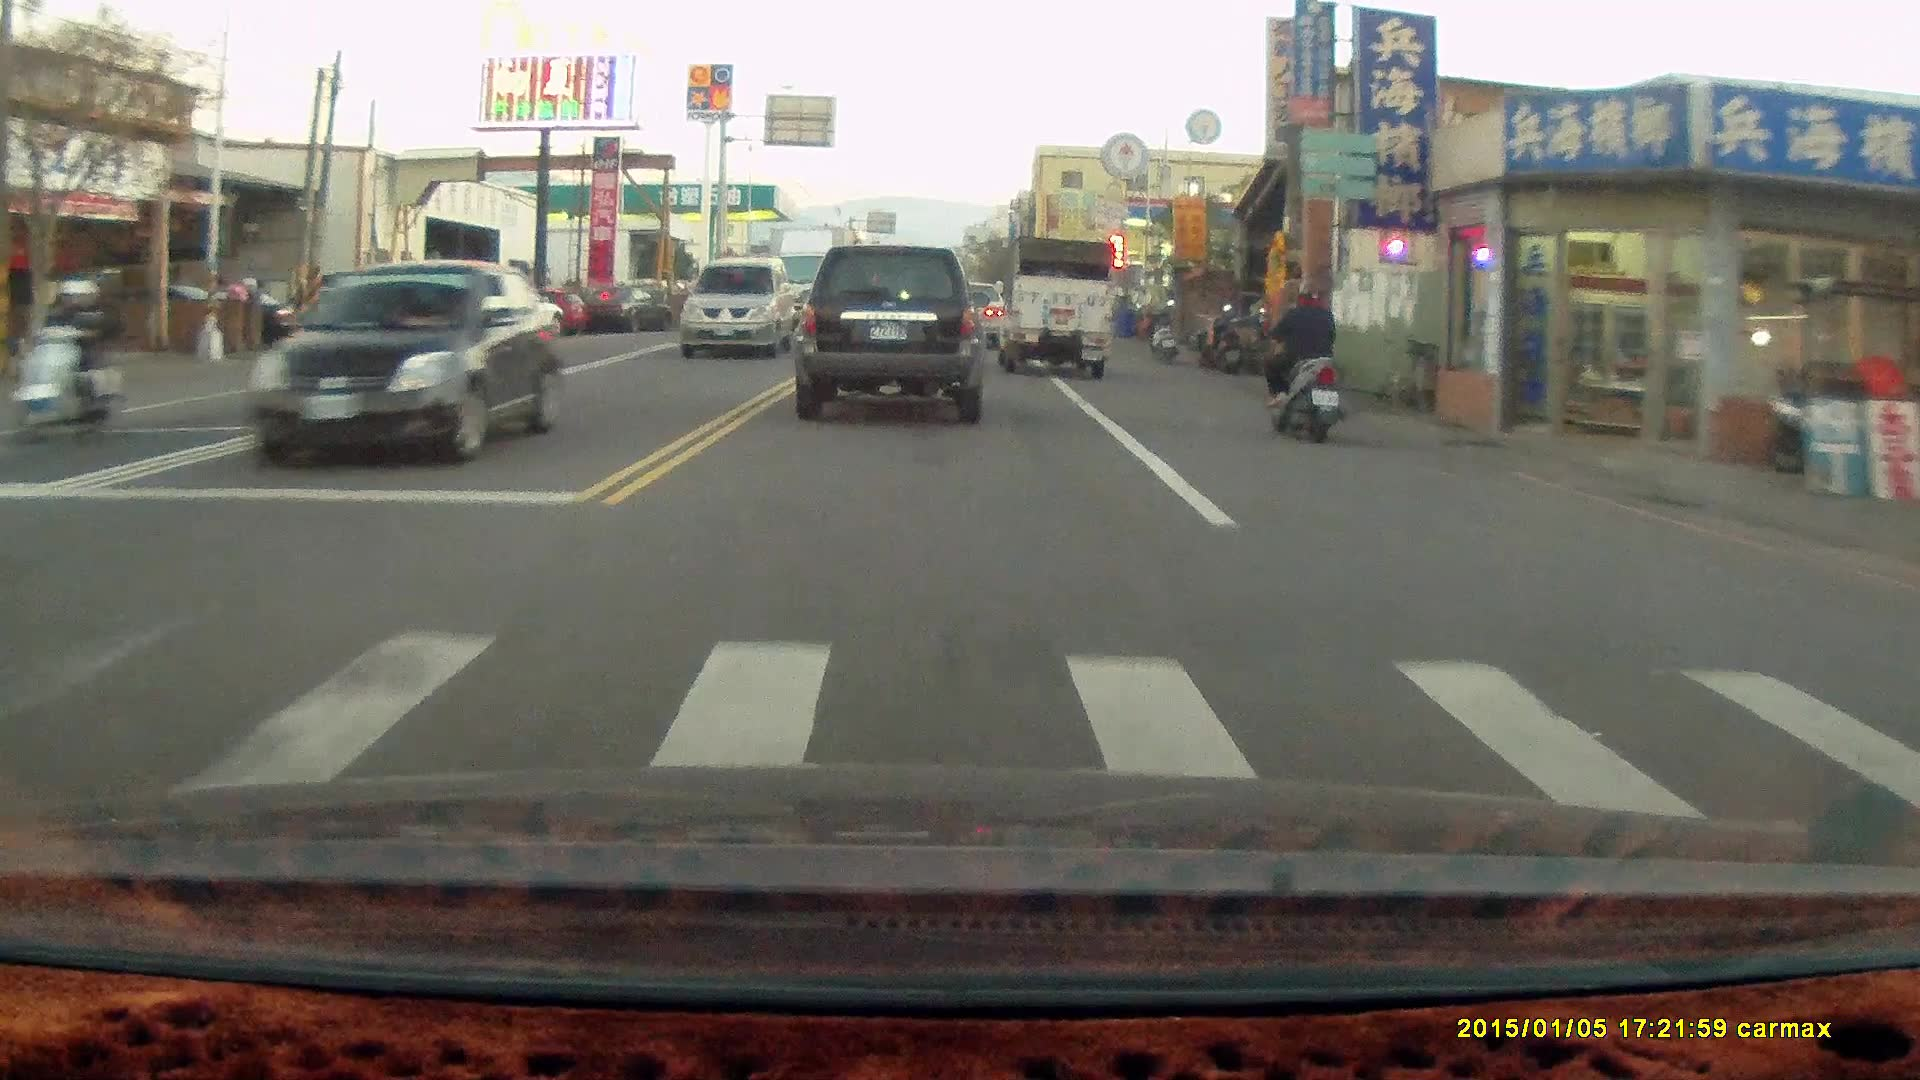rider: (0, 275, 132, 443), (1253, 276, 1346, 444)
vehicle: (248, 261, 564, 467), (792, 244, 987, 424), (994, 234, 1115, 379), (683, 259, 802, 361), (440, 284, 570, 357)
